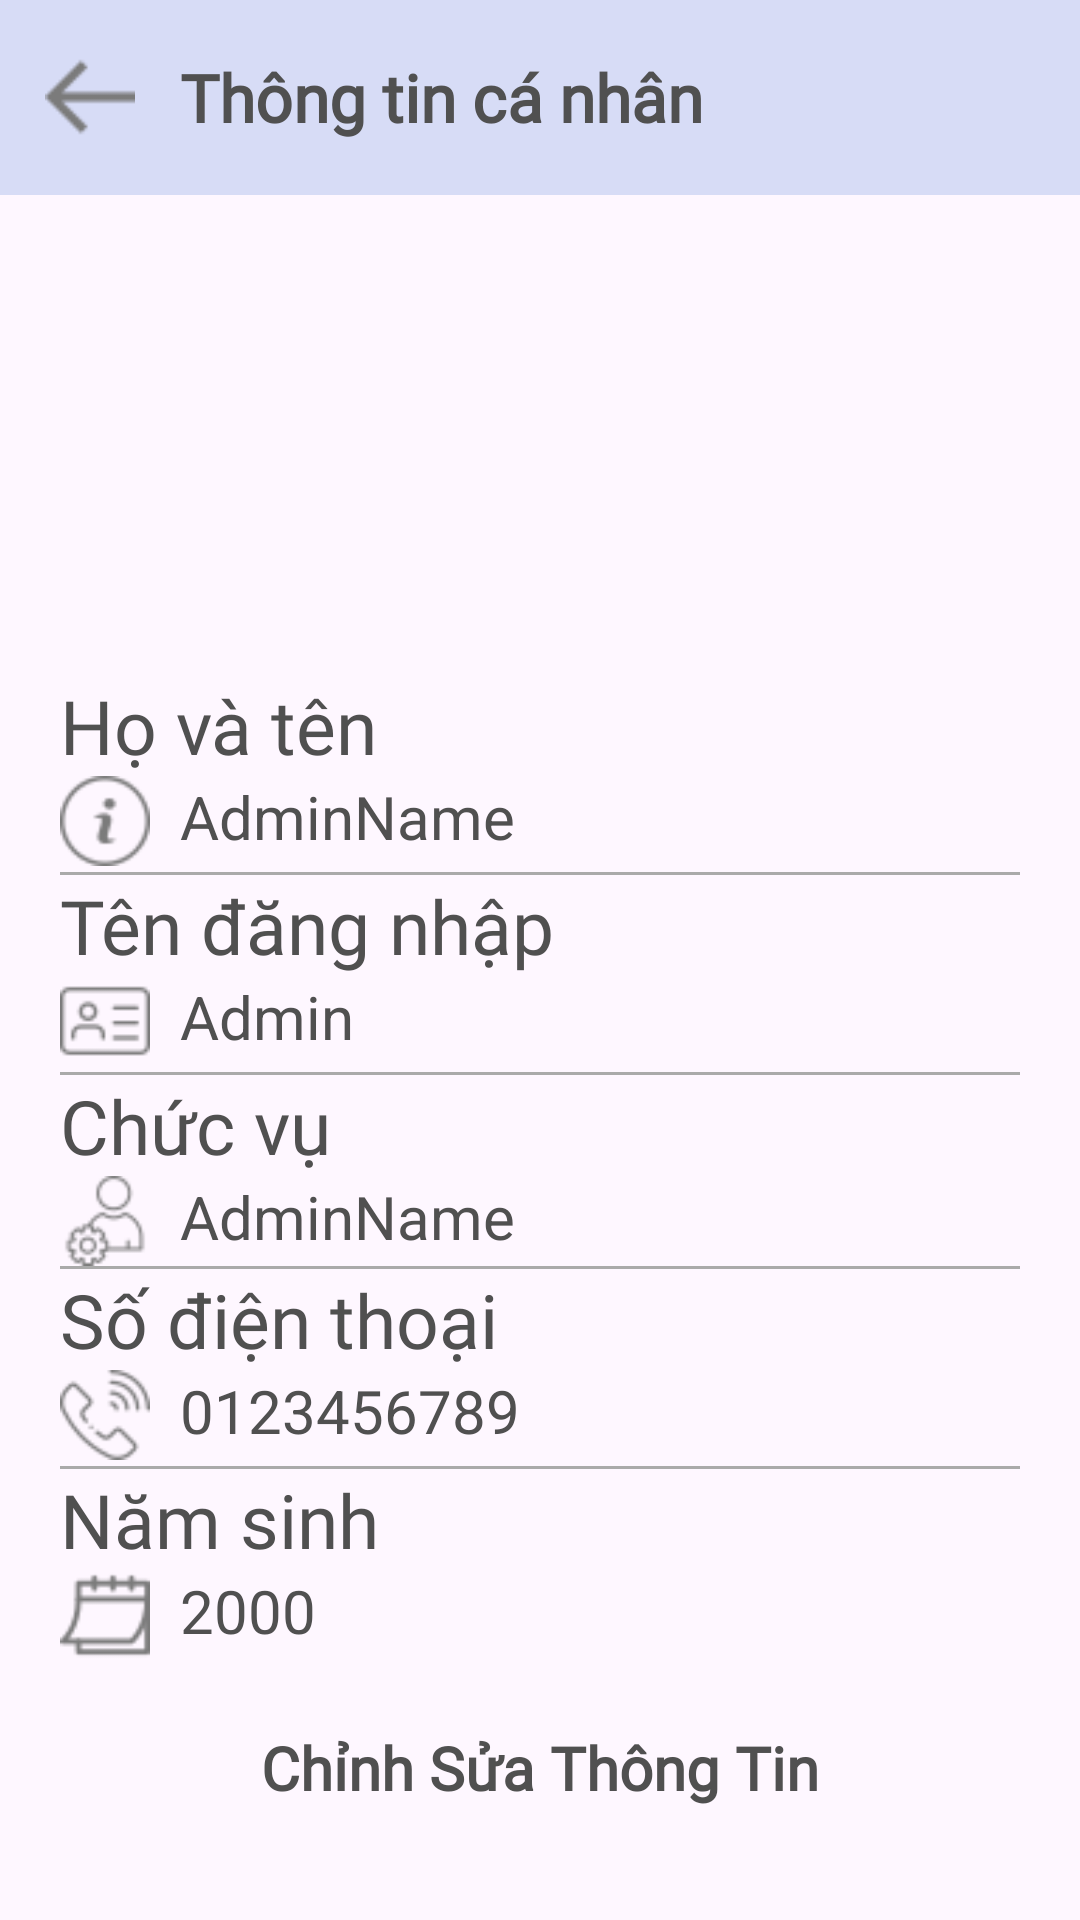

Icons on this 1080x1920 Android screen, each with the point to tap as [x,y]:
info: [105,821]
leftarrow: [90,97]
phone: [105,1415]
year: [105,1615]
